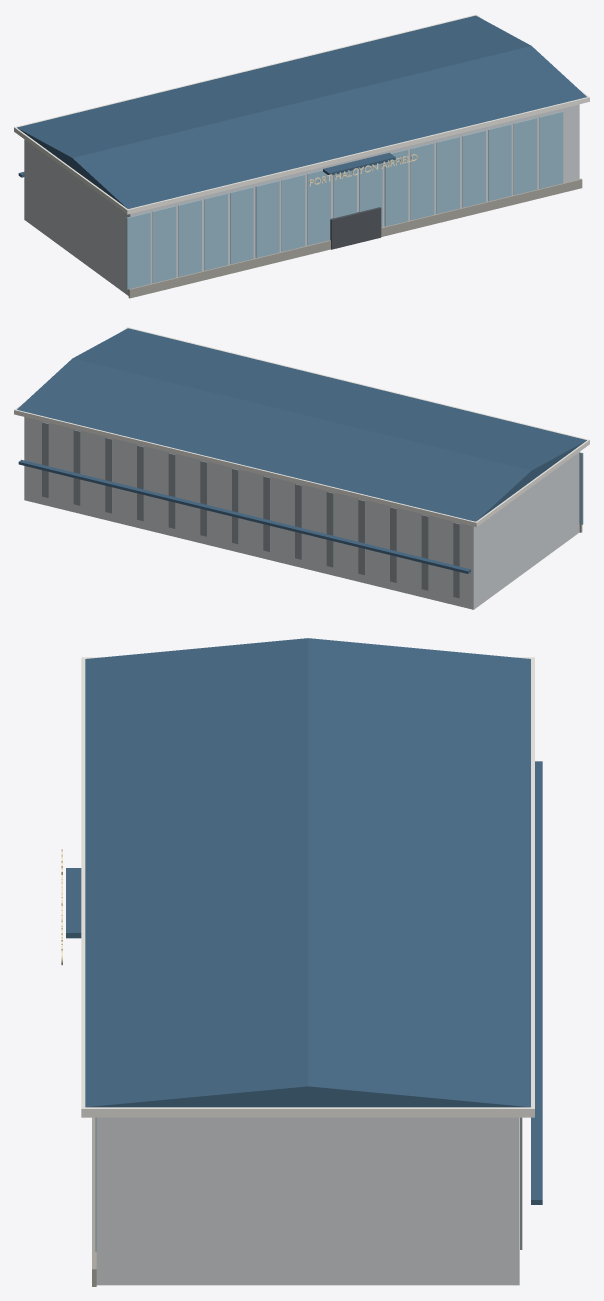
The model's file is BLD_Terminal.fbx.
3 views of the same model, one above another, from view 1: azimuth 30°, elevation 25°; view 2: azimuth 150°, elevation 25°; view 3: azimuth 270°, elevation 25° (orthographic). The views are drawn at different scales.
Visible parts, largest first — view 1: BLD_Terminal__BODY, BLD_Terminal__SIGN; view 2: BLD_Terminal__BODY; view 3: BLD_Terminal__BODY.
Part boxes in pixels (x1,y1,x2,y2): BLD_Terminal__BODY: (14, 14, 589, 298); BLD_Terminal__SIGN: (309, 154, 417, 186); BLD_Terminal__BODY: (14, 327, 589, 609); BLD_Terminal__BODY: (66, 638, 542, 1286).
Size of the model in its own units: 55.6 by 11.7 by 25.04.
